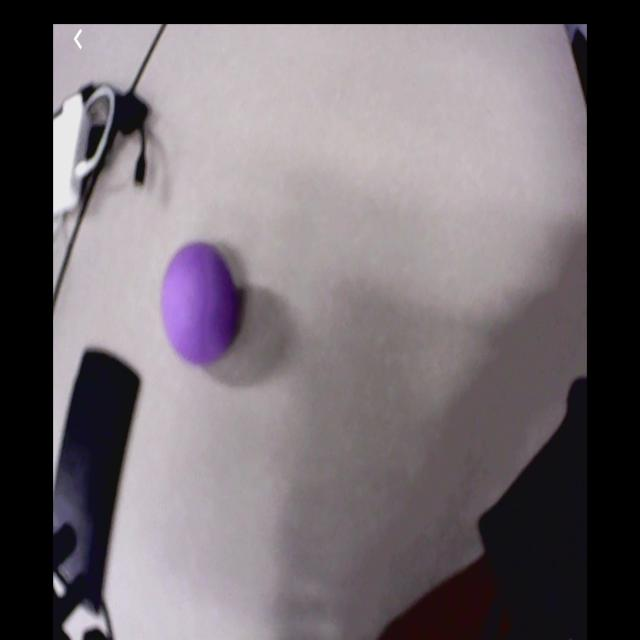ball: (161, 246, 237, 363)
